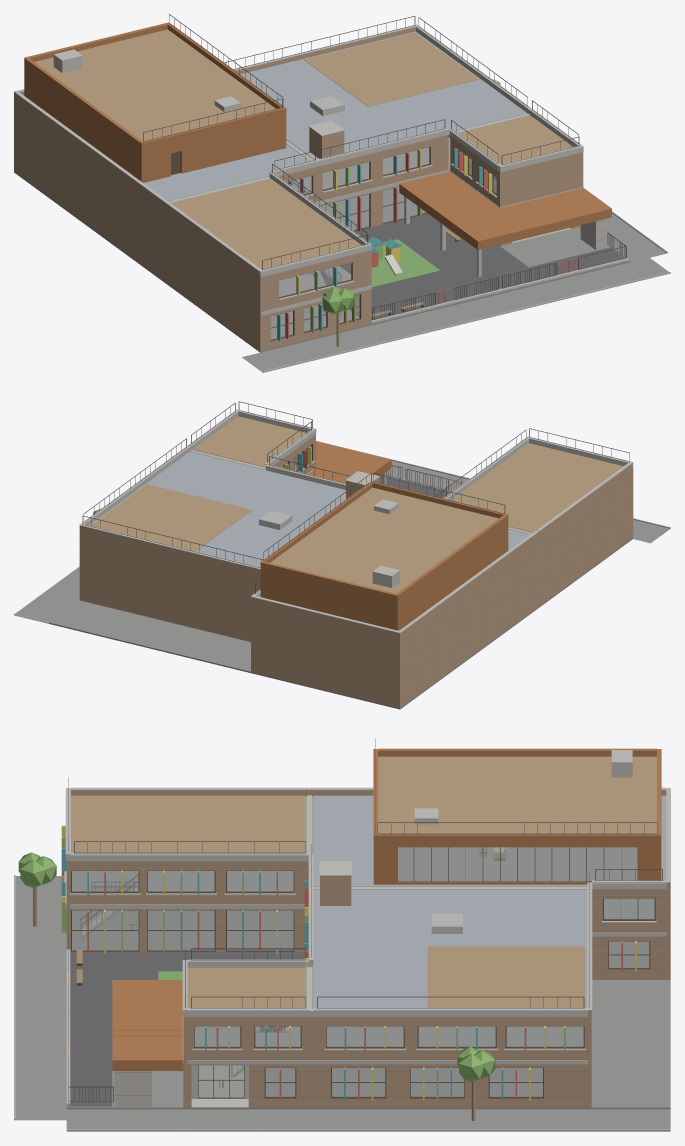
File: clay-courtyard-primary-school-clay-v009.glb
The picture shows the model from 3 angles, top to bottom: view 1: azimuth 30°, elevation 25°; view 2: azimuth 150°, elevation 25°; view 3: azimuth 270°, elevation 25°; orthographic projection. The views are drawn at different scales.
Parts seen in each view (by area): view 1: CLAY_WALL, CLAY_ROOF, CLAY_CORTEN, CLAY_MEMBRANE, CLAY_FOUNDATION, CLAY_PALE, CLAY_COURT, CLAY_GLASS, CLAY_HARDWARE, CLAY_FLOOR, CLAY_TRIM, CLAY_PLAY (+6 smaller); view 2: CLAY_WALL, CLAY_ROOF, CLAY_CORTEN, CLAY_MEMBRANE, CLAY_FOUNDATION, CLAY_PALE, CLAY_HARDWARE, CLAY_STONE; view 3: CLAY_FOUNDATION, CLAY_ROOF, CLAY_GLASS, CLAY_WALL, CLAY_MEMBRANE, CLAY_PALE, CLAY_FLOOR, CLAY_CORTEN, CLAY_COURT, CLAY_TRIM, CLAY_HARDWARE, CLAY_JOINT (+7 smaller).
Boxes of the visible parts, x1=… form: CLAY_WALL: x1=14, y1=27, x2=583, y2=351; CLAY_ROOF: x1=35, y1=29, x2=572, y2=269; CLAY_CORTEN: x1=24, y1=22, x2=611, y2=249; CLAY_MEMBRANE: x1=143, y1=31, x2=527, y2=201; CLAY_FOUNDATION: x1=14, y1=165, x2=668, y2=372; CLAY_PALE: x1=14, y1=24, x2=628, y2=323; CLAY_COURT: x1=322, y1=213, x2=626, y2=323; CLAY_GLASS: x1=270, y1=95, x2=496, y2=339; CLAY_HARDWARE: x1=143, y1=14, x2=626, y2=321; CLAY_FLOOR: x1=171, y1=115, x2=529, y2=296; CLAY_TRIM: x1=171, y1=146, x2=496, y2=341; CLAY_PLAY: x1=371, y1=239, x2=440, y2=287; CLAY_WALL: x1=79, y1=434, x2=633, y2=707; CLAY_ROOF: x1=90, y1=416, x2=623, y2=593; CLAY_CORTEN: x1=260, y1=441, x2=508, y2=630; CLAY_MEMBRANE: x1=89, y1=452, x2=529, y2=567; CLAY_FOUNDATION: x1=14, y1=461, x2=670, y2=709; CLAY_PALE: x1=79, y1=409, x2=633, y2=633; CLAY_HARDWARE: x1=82, y1=401, x2=629, y2=593; CLAY_STONE: x1=14, y1=441, x2=670, y2=615; CLAY_FOUNDATION: x1=15, y1=876, x2=670, y2=1131; CLAY_ROOF: x1=71, y1=756, x2=656, y2=1007; CLAY_GLASS: x1=72, y1=847, x2=654, y2=1097; CLAY_WALL: x1=66, y1=788, x2=670, y2=1107; CLAY_MEMBRANE: x1=313, y1=795, x2=666, y2=1007; CLAY_PALE: x1=64, y1=750, x2=670, y2=1107; CLAY_FLOOR: x1=72, y1=796, x2=654, y2=1046; CLAY_CORTEN: x1=112, y1=748, x2=661, y2=1070; CLAY_COURT: x1=67, y1=952, x2=304, y2=1106; CLAY_TRIM: x1=71, y1=847, x2=655, y2=1098; CLAY_HARDWARE: x1=68, y1=738, x2=662, y2=1101; CLAY_JOINT: x1=70, y1=836, x2=666, y2=1096.
Size of the model in its own units: 46 by 12.98 by 50.03.
